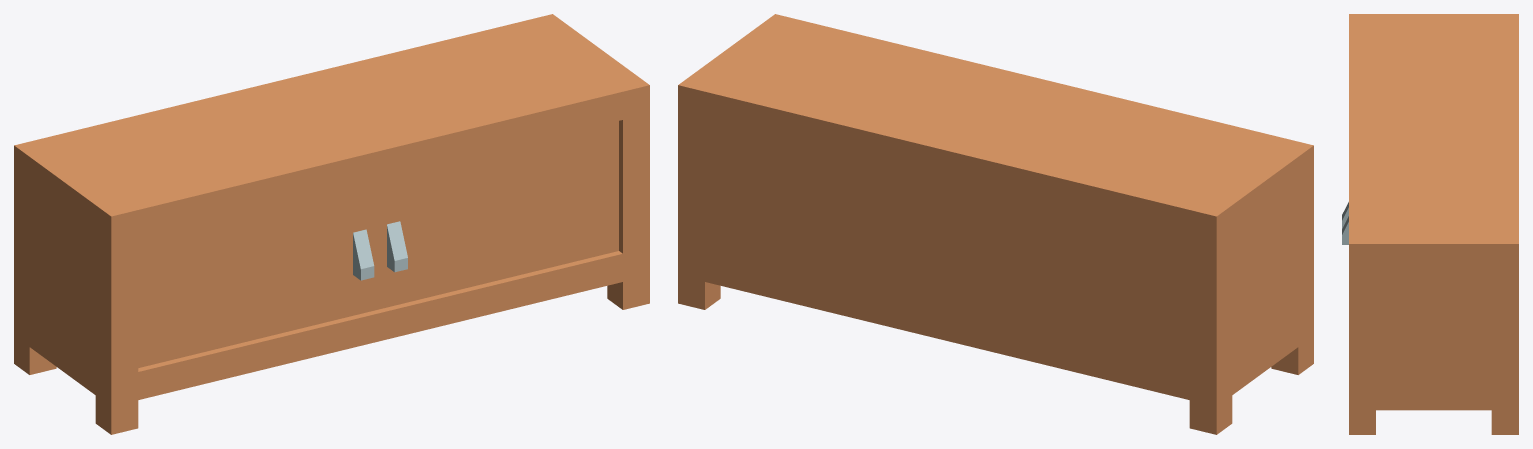
File: cabinet.glb
The picture shows the model from 3 angles, left to right: view 1: azimuth 30°, elevation 25°; view 2: azimuth 150°, elevation 25°; view 3: azimuth 270°, elevation 25°; orthographic projection. The views are drawn at different scales.
Parts seen in each view (by area): view 1: doorLeft; view 2: doorLeft; view 3: doorLeft.
Part boxes in pixels (<box>): doorLeft: <box>14,14,649,434</box>; doorLeft: <box>678,14,1313,434</box>; doorLeft: <box>1342,14,1518,434</box>.
Bounding box in the file's own units: 6.4 × 2.48 × 2.08.
